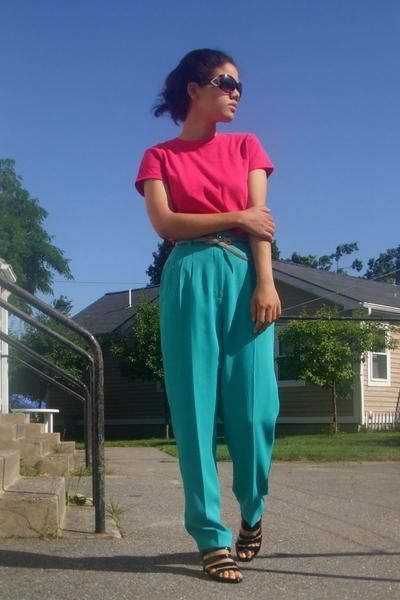pants: (158, 240, 278, 555)
shirt: (138, 133, 271, 213)
shoe: (208, 520, 262, 583)
sunglass: (209, 60, 241, 100)
